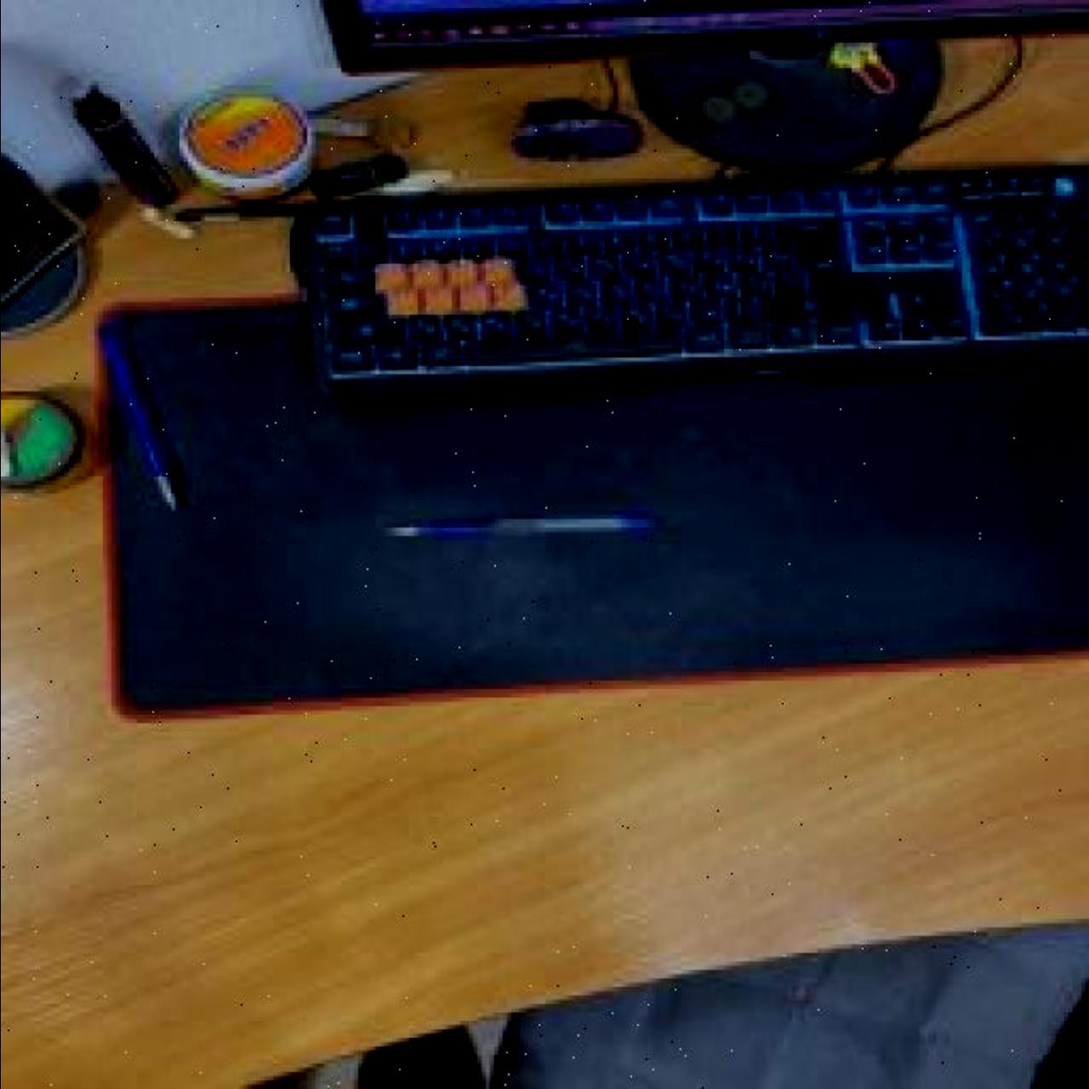pen: (383, 510, 655, 544)
